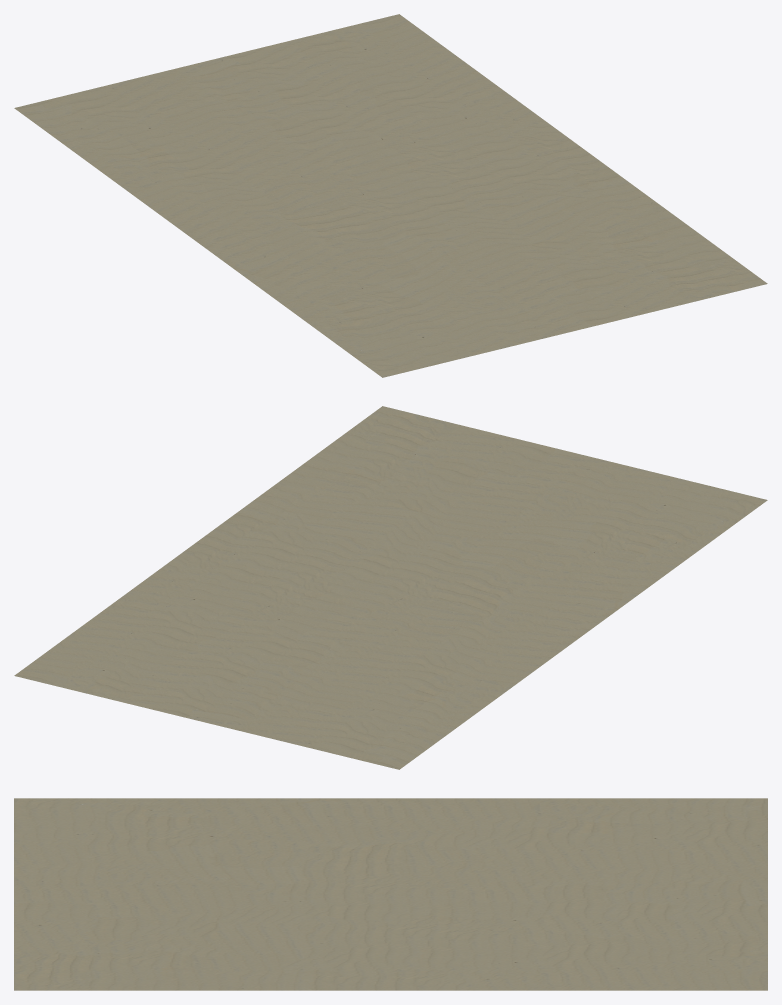
The model's file is Ground.fbx.
3 views of the same model, one above another, from view 1: azimuth 30°, elevation 25°; view 2: azimuth 150°, elevation 25°; view 3: azimuth 270°, elevation 25° (orthographic). The views are drawn at different scales.
Visible parts, largest first — view 1: Plane001; view 2: Plane001; view 3: Plane001.
Part boxes in pixels (x1,y1,x2,y2): Plane001: [14, 14, 767, 377]; Plane001: [14, 406, 767, 769]; Plane001: [14, 798, 767, 990].
Size of the model in its own units: 62.73 by 6.44e-15 by 104.
Materials: 1 (1 with a texture image).
